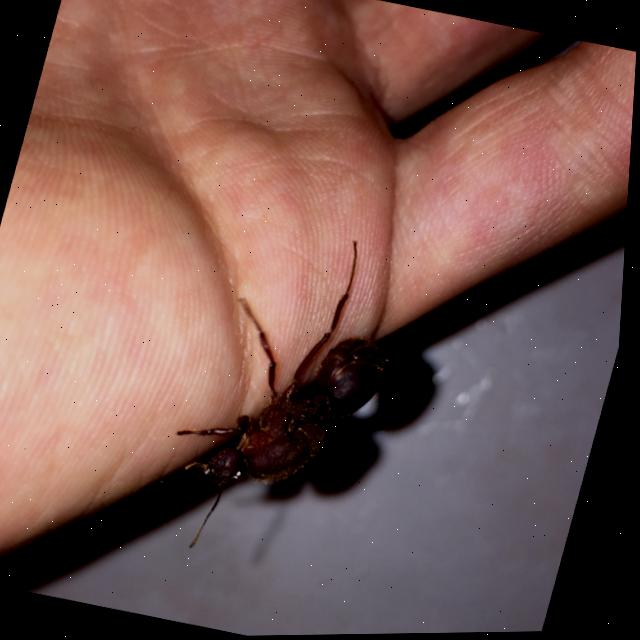Alive-Female-Dealate: (152, 214, 428, 581)
